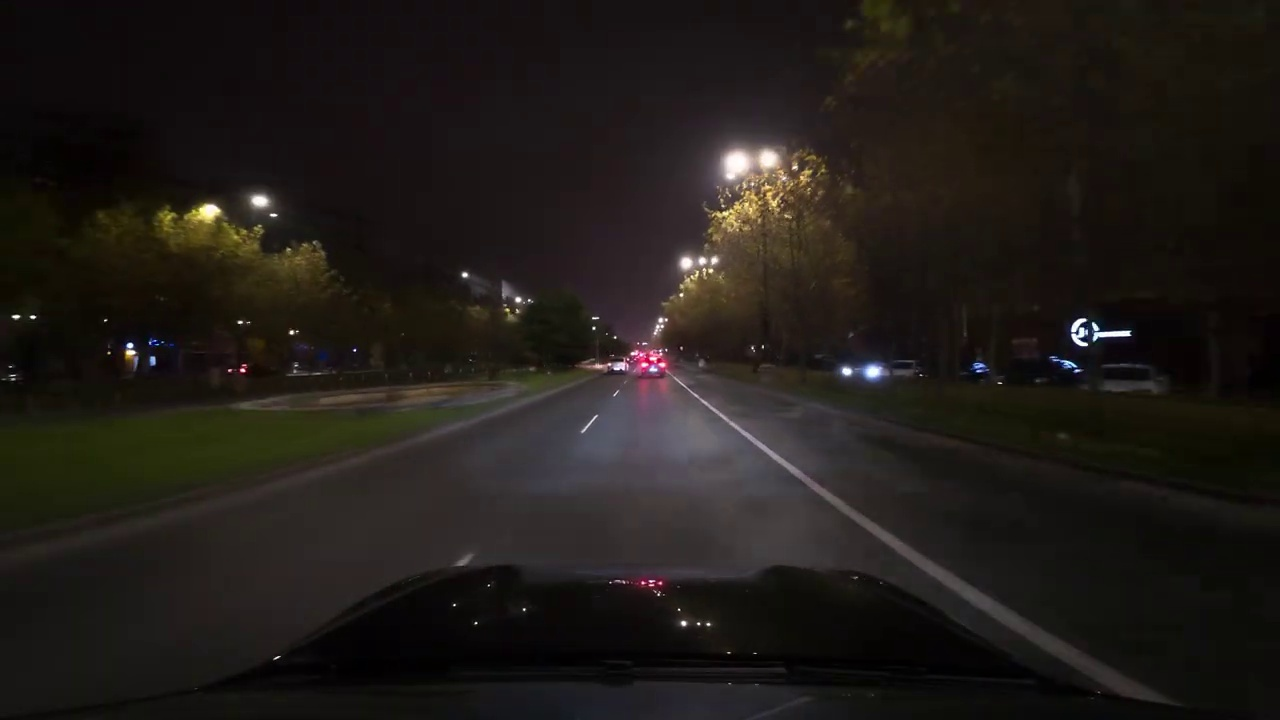acesa: (721, 148, 766, 181)
